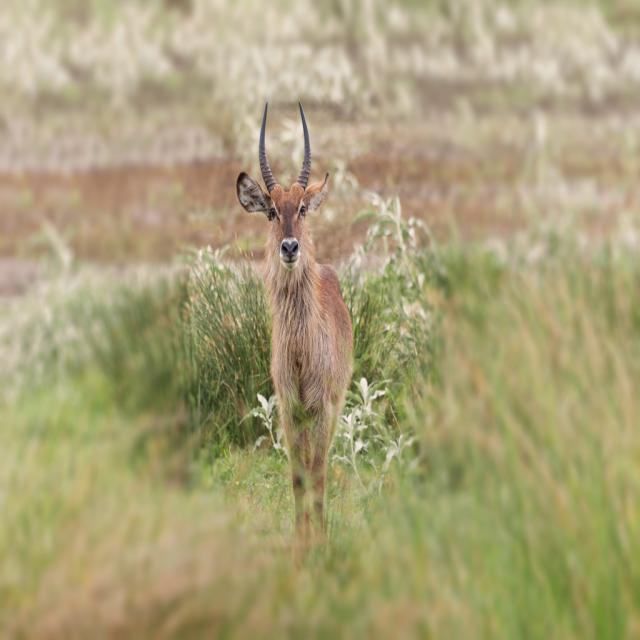Deer: (235, 100, 354, 572)
